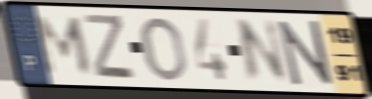4: (195, 16, 230, 84)
M: (35, 13, 94, 77)
N: (276, 18, 336, 88), (234, 17, 291, 87)
O: (140, 15, 190, 84)
Z: (82, 12, 137, 82)
